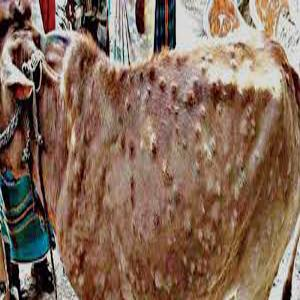lumpy skin diesease: (0, 0, 299, 299), (0, 0, 67, 299)
